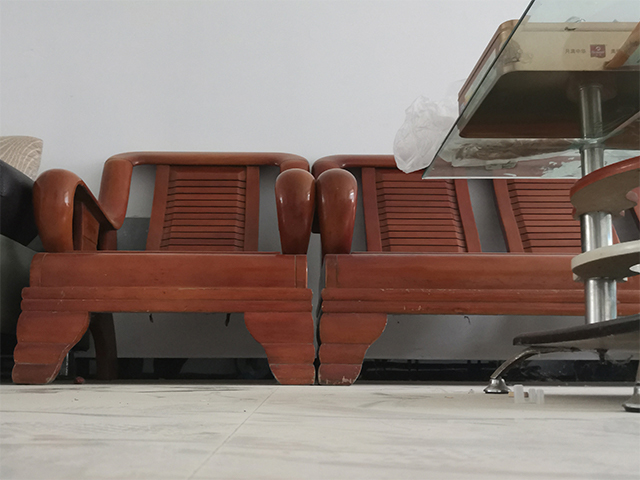stool: (9, 143, 318, 385), (314, 149, 623, 391)
table: (418, 1, 639, 413)
